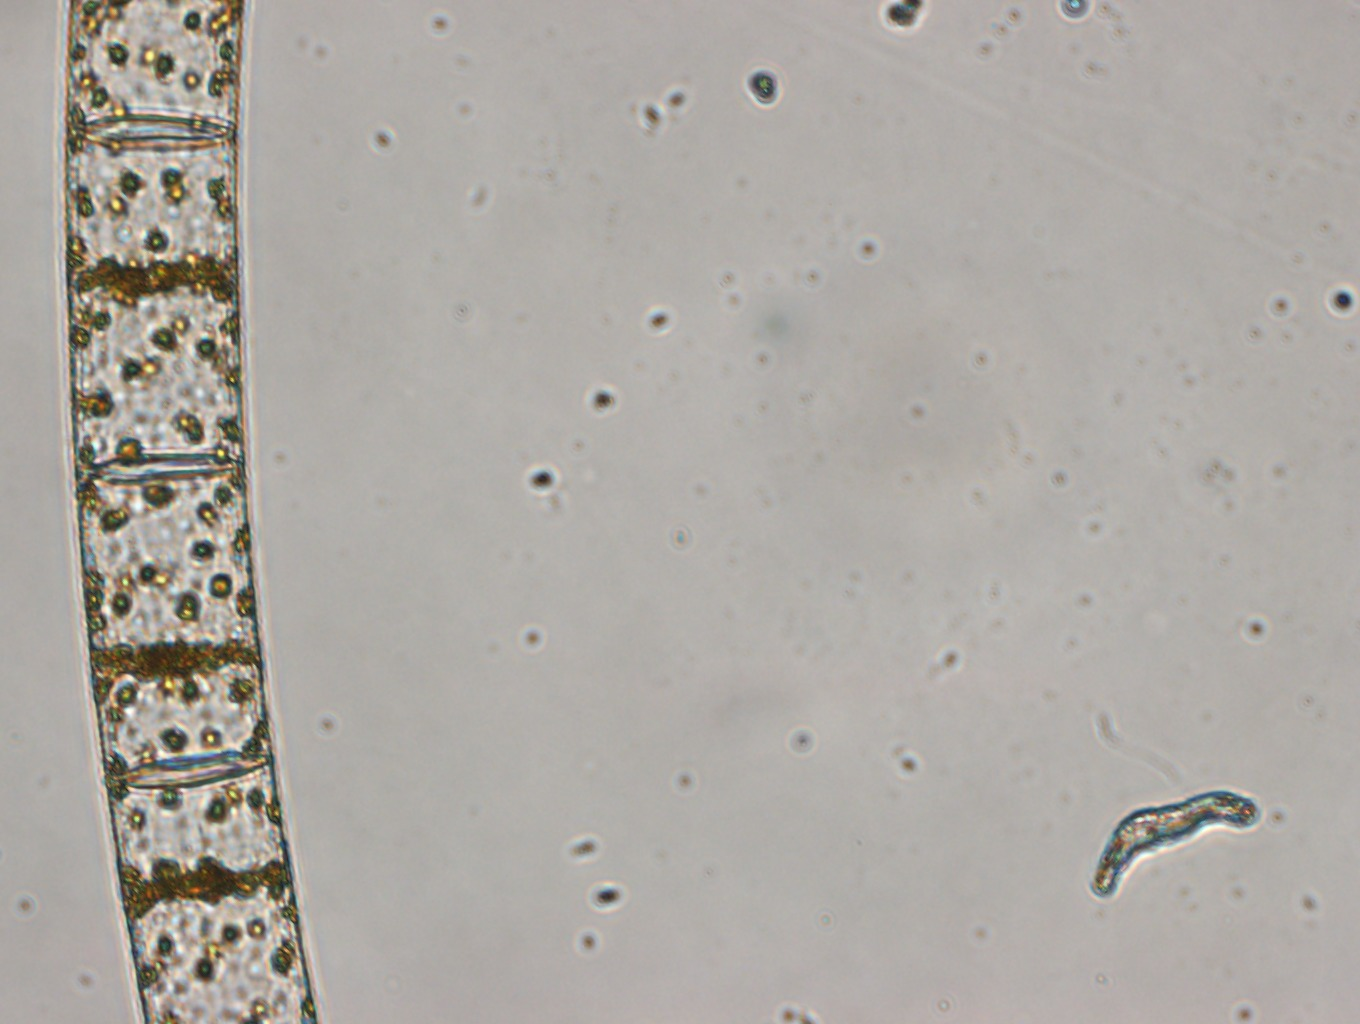guinardia flaccida: (60, 1, 323, 1024)
